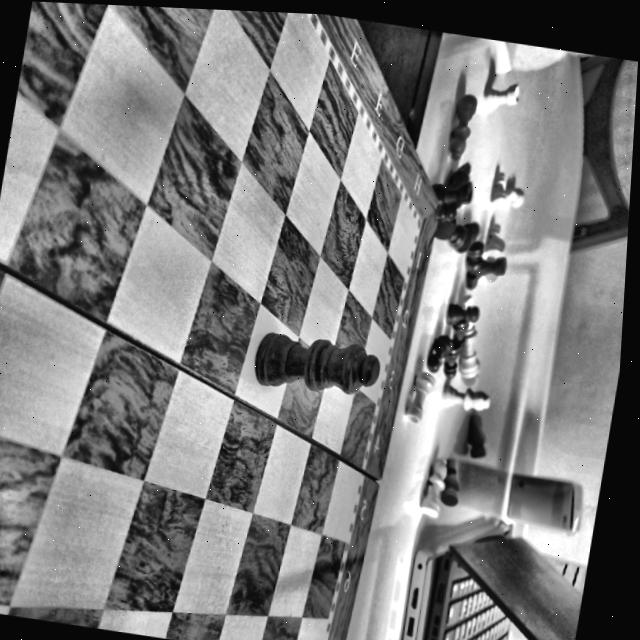black-queen: (241, 310, 392, 413)
